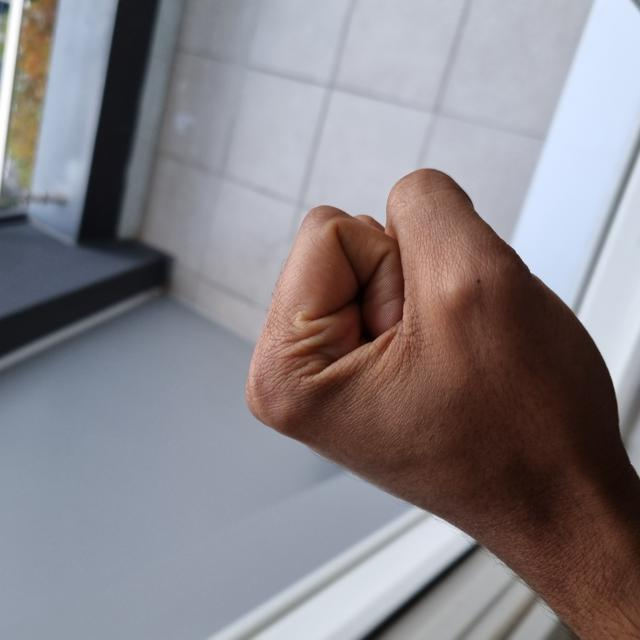Rock: (72, 245, 466, 628)
